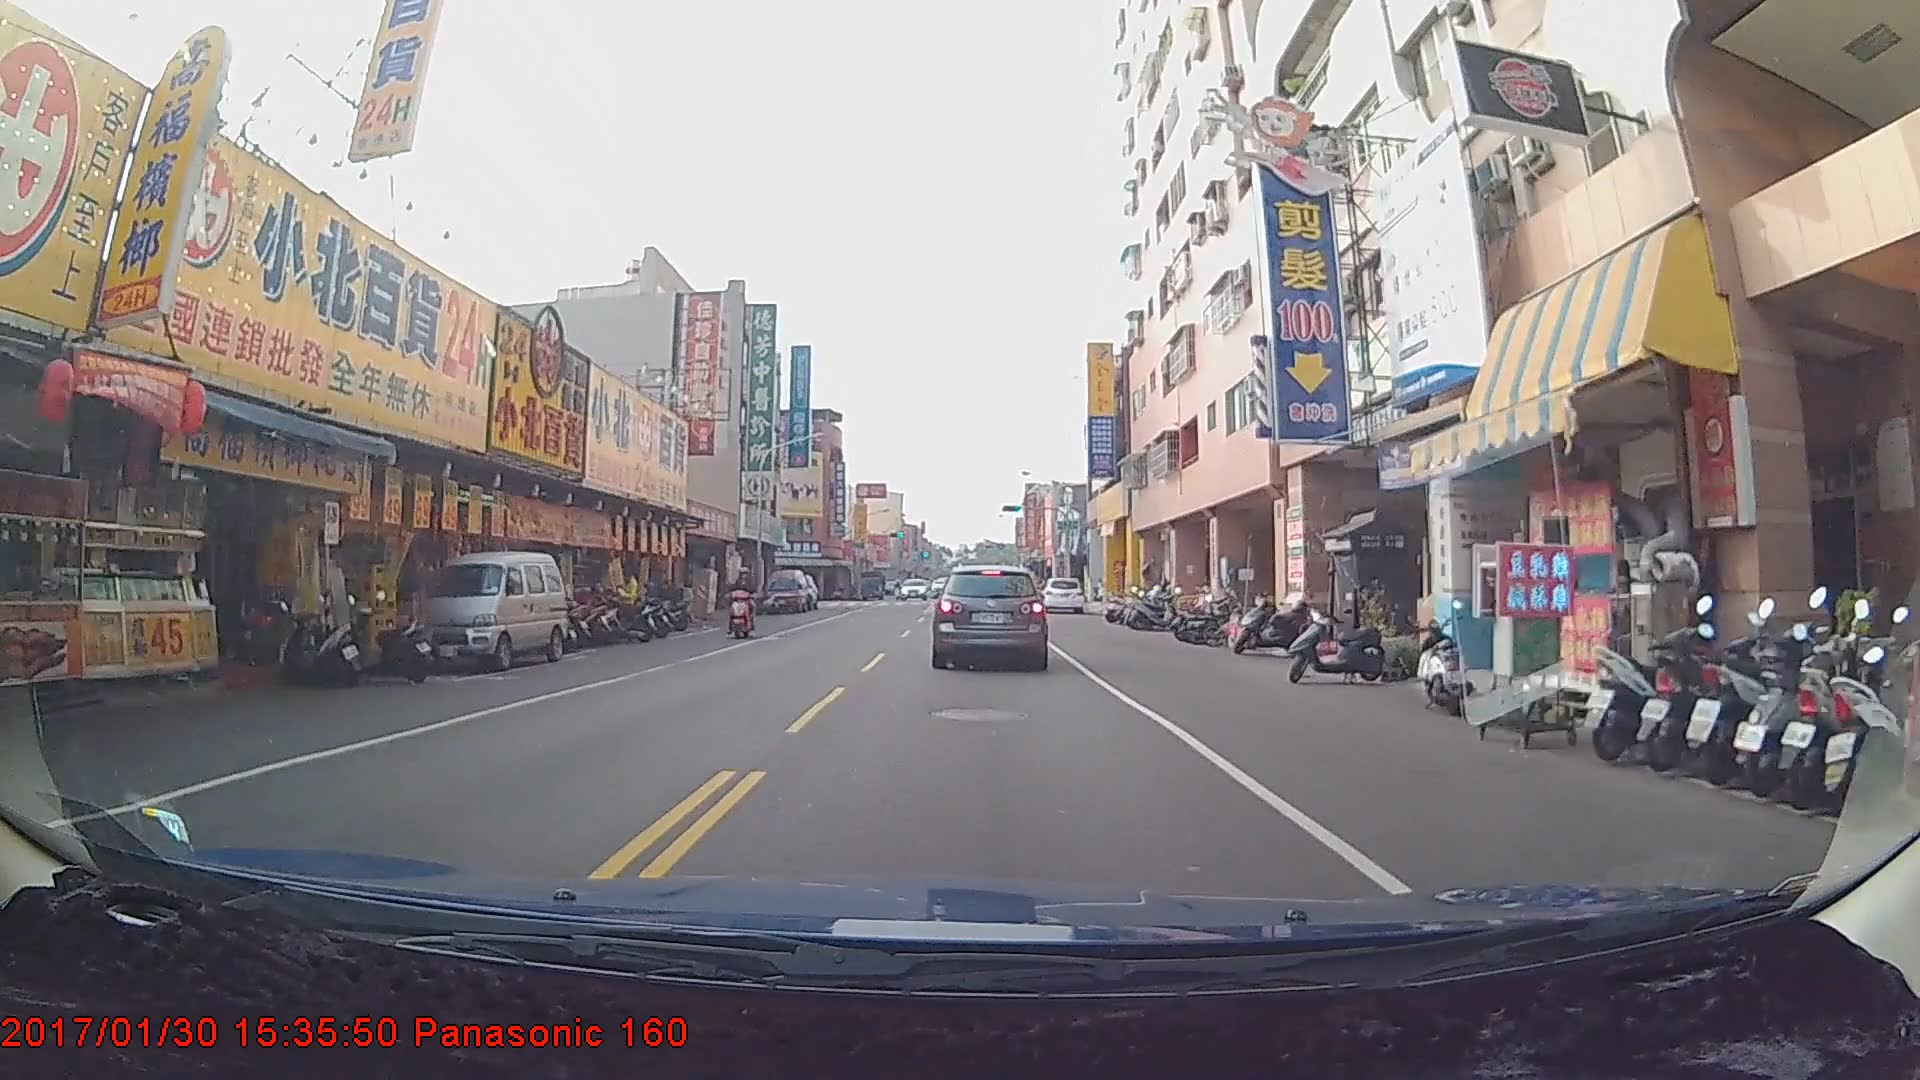pedestrian: (606, 567, 644, 638)
rider: (729, 562, 765, 639)
vehicle: (409, 549, 565, 671), (932, 562, 1047, 669), (762, 569, 810, 613), (1038, 576, 1085, 616), (899, 580, 928, 602)
